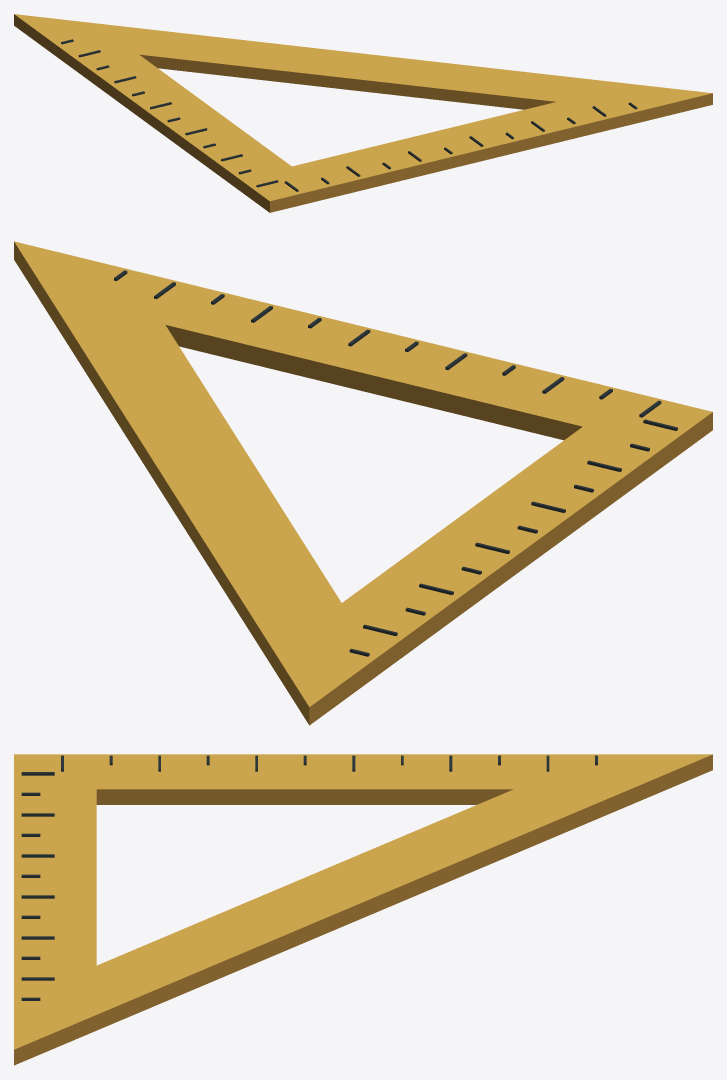
3 renders of one model, top to bottom at view 1: azimuth 30°, elevation 25°; view 2: azimuth 150°, elevation 25°; view 3: azimuth 270°, elevation 25°, orthographic. The views are drawn at different scales.
Visible parts, largest first — view 1: ContinuousThickTriangleRing; view 2: ContinuousThickTriangleRing; view 3: ContinuousThickTriangleRing.
Boxes of the visible parts, box(x1,y1,x2,y2) form: ContinuousThickTriangleRing: box(14, 14, 712, 212); ContinuousThickTriangleRing: box(14, 241, 712, 725); ContinuousThickTriangleRing: box(14, 754, 712, 1065).
Bounding box in the file's own units: 0.72 × 0.0204 × 0.72.
